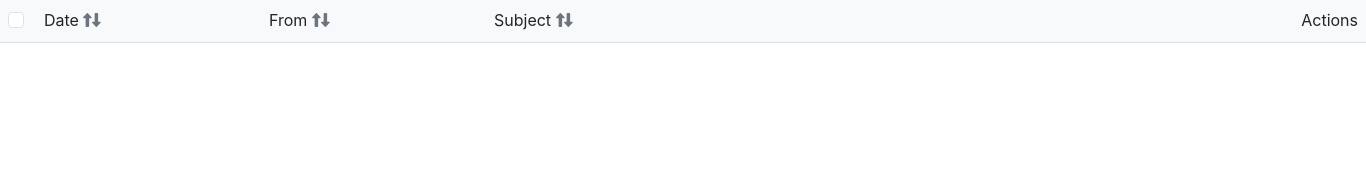
Test: FolderScrollContainer Component › testing toggleSelection() function › a successful response clicking select all and selecting all the emails in the folder
What coordinates should you click on to do the following:
click the checkbox with id "formFolderSelectAll"
I would click on:
 (16, 20)
Its box is [8, 12, 24, 28].
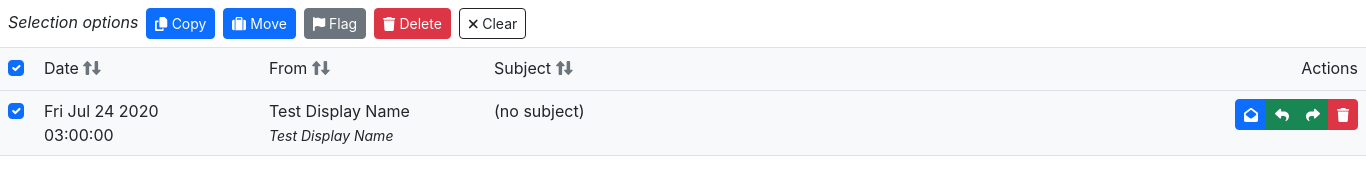
Expected: the checkbox next to "Date" is shown, [8, 60, 24, 76]
Expected: the checkbox next to "Fri Jul 24 2020" is shown, [8, 103, 24, 119]
